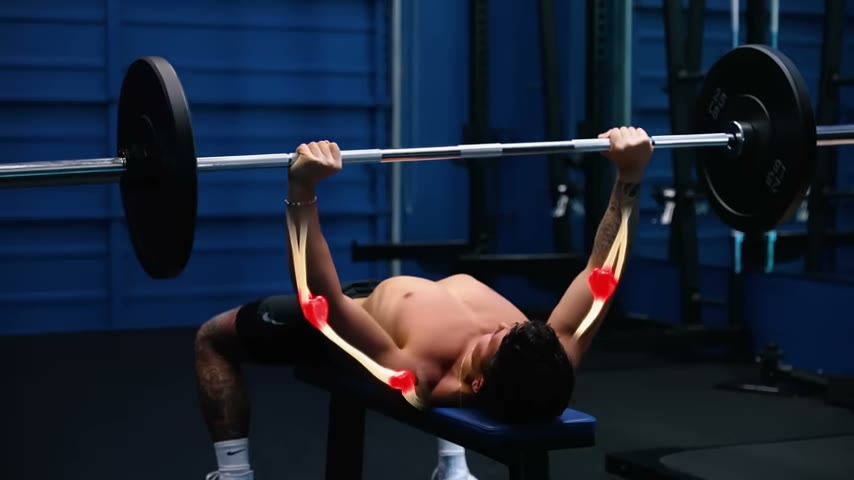barbell_plate_side: (677, 38, 818, 248)
